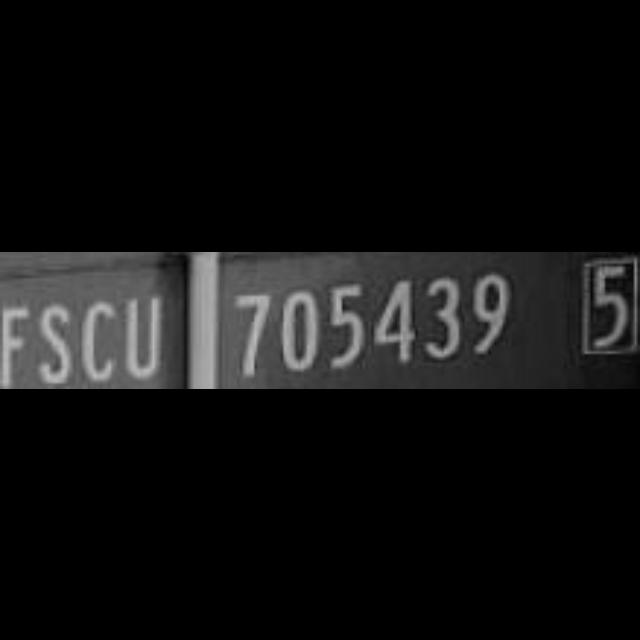0: (275, 282, 325, 382)
3: (420, 270, 466, 372)
4: (370, 272, 422, 388)
5: (328, 276, 372, 382), (588, 264, 632, 352)
7: (230, 286, 278, 388)
9: (468, 264, 518, 362)
c: (77, 294, 123, 388)
f: (1, 296, 40, 388)
s: (33, 296, 76, 388)
u: (121, 287, 172, 388)
